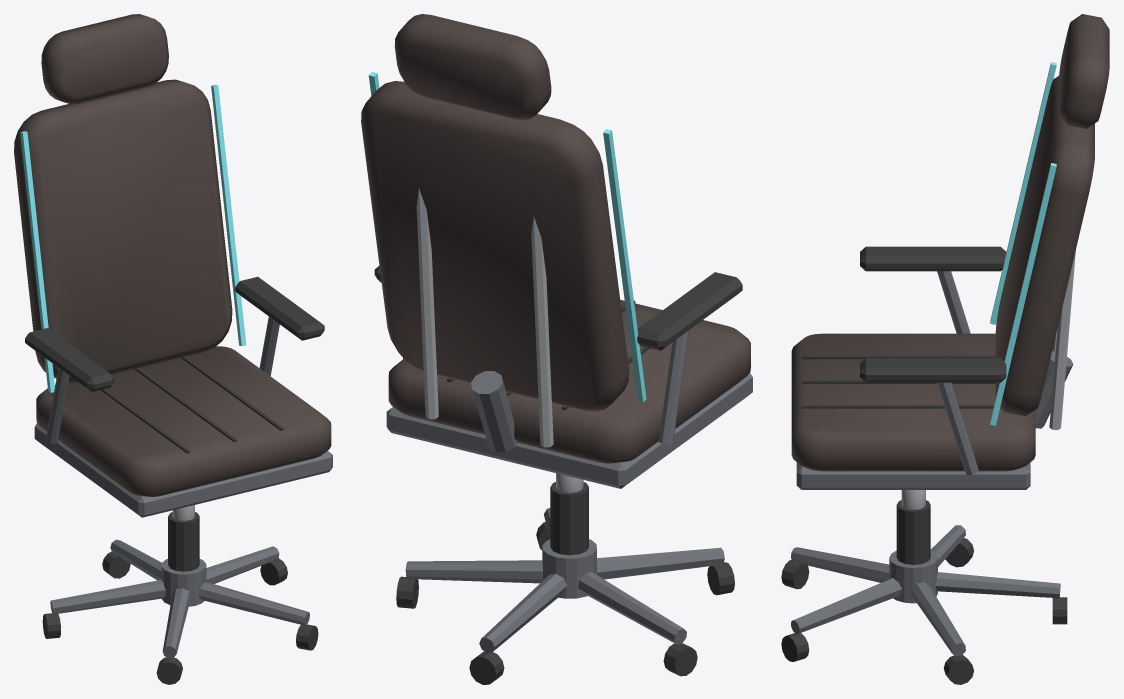
Rendered from Garage_PilotChair.glb.
3 renders of one model, left to right at view 1: azimuth 30°, elevation 25°; view 2: azimuth 150°, elevation 25°; view 3: azimuth 270°, elevation 25°, orthographic. The views are drawn at different scales.
Parts seen in each view (by area): view 1: Garage_PilotChair; view 2: Garage_PilotChair; view 3: Garage_PilotChair.
Boxes of the visible parts, x1,y1,x2,y2 form: Garage_PilotChair: (14, 14, 332, 684); Garage_PilotChair: (361, 14, 752, 684); Garage_PilotChair: (781, 14, 1109, 684).
Size of the model in its own units: 0.6165 by 1.33 by 0.6729.
